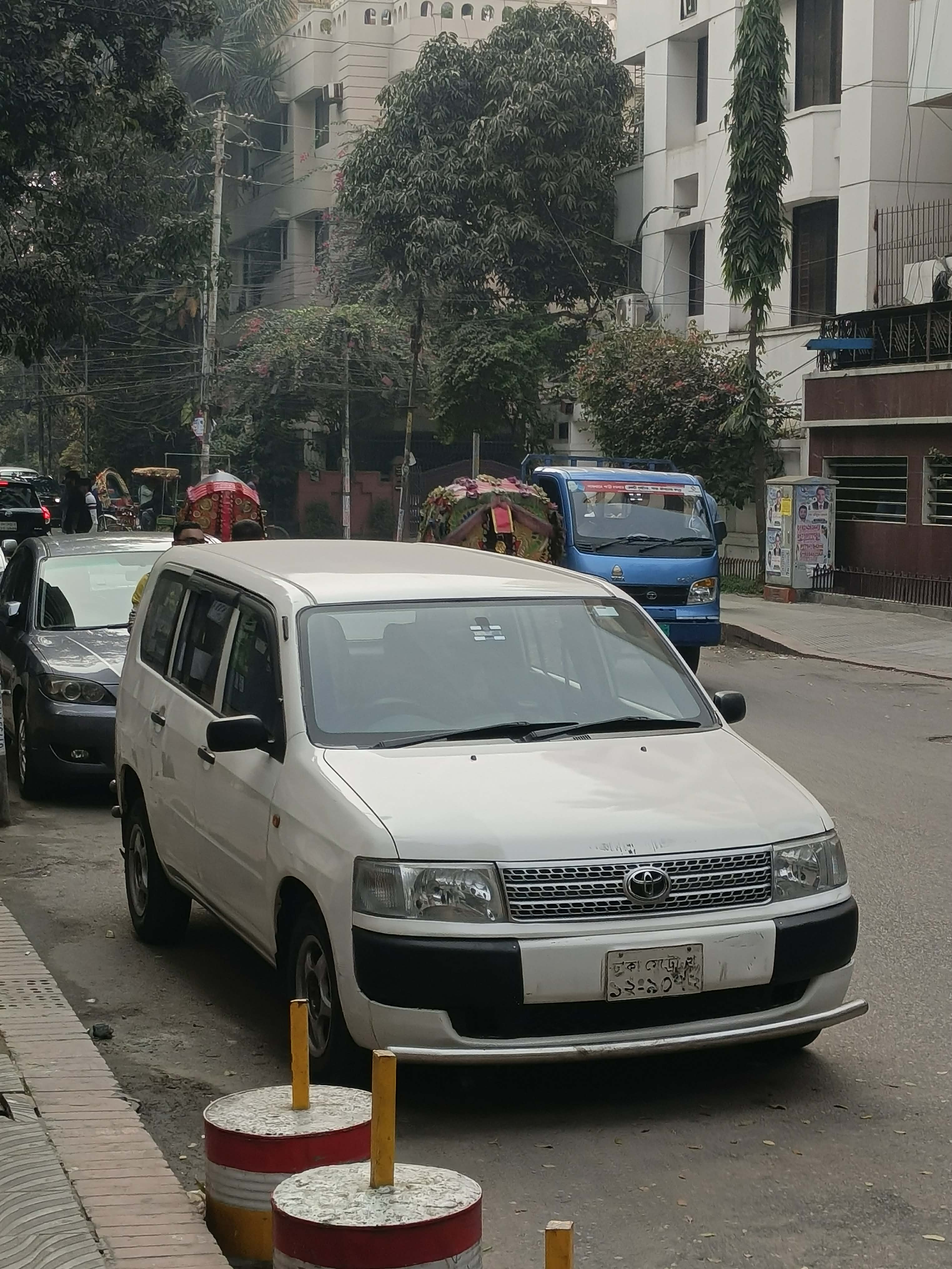Pickup: (512, 428, 785, 650)
auto-ricksaw: (406, 438, 567, 568)
private car: (122, 463, 932, 1109), (25, 485, 230, 805)
